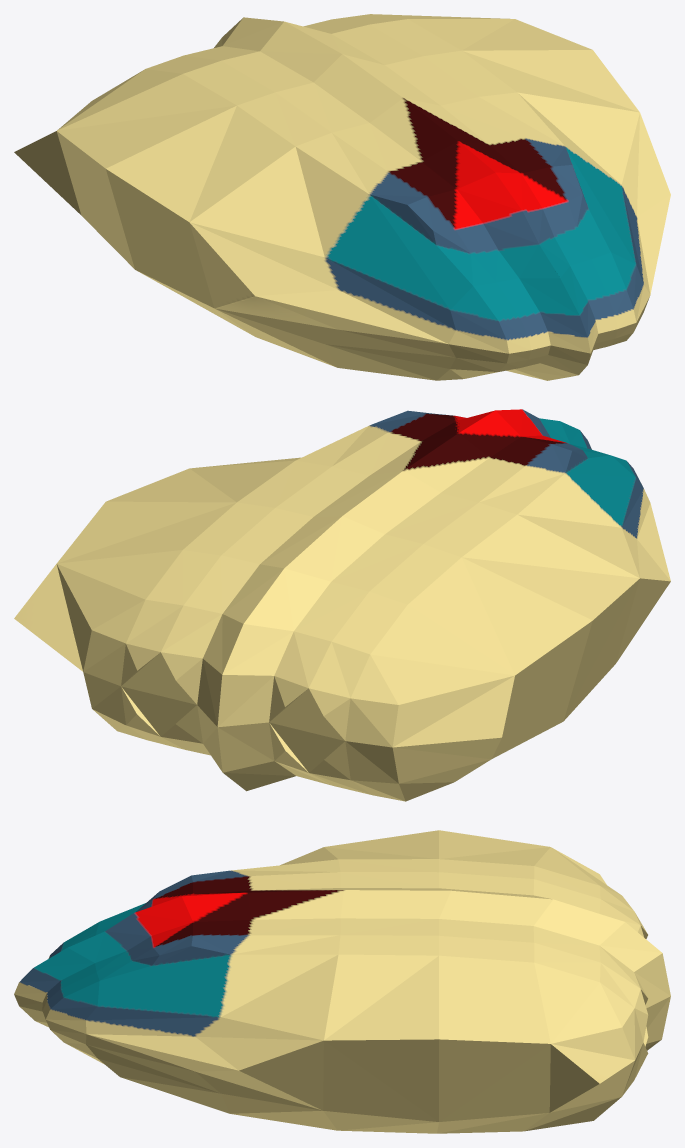
File: spaceship body 1.FBX
3 renders of one model, top to bottom at view 1: azimuth 30°, elevation 25°; view 2: azimuth 150°, elevation 25°; view 3: azimuth 270°, elevation 25°, orthographic. The views are drawn at different scales.
Visible parts, largest first — view 1: Box001; view 2: Box001; view 3: Box001.
Part boxes in pixels (x1,y1,x2,y2): Box001: (14, 14, 670, 380); Box001: (14, 409, 670, 801); Box001: (14, 830, 670, 1133).
Size of the model in its own units: 67.05 by 29.58 by 88.81.
1 material, 1 textured.
